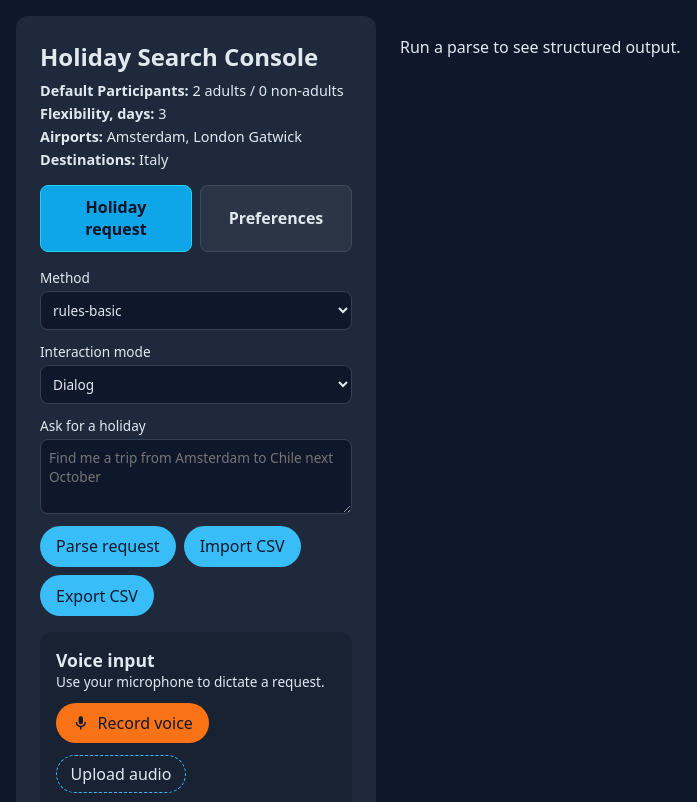
Test: Holiday search console › switches to preferences mode and updates labels
Click the button with test id "mode-toggle-preferences". click: (276, 218)
box: [200,185,352,252]
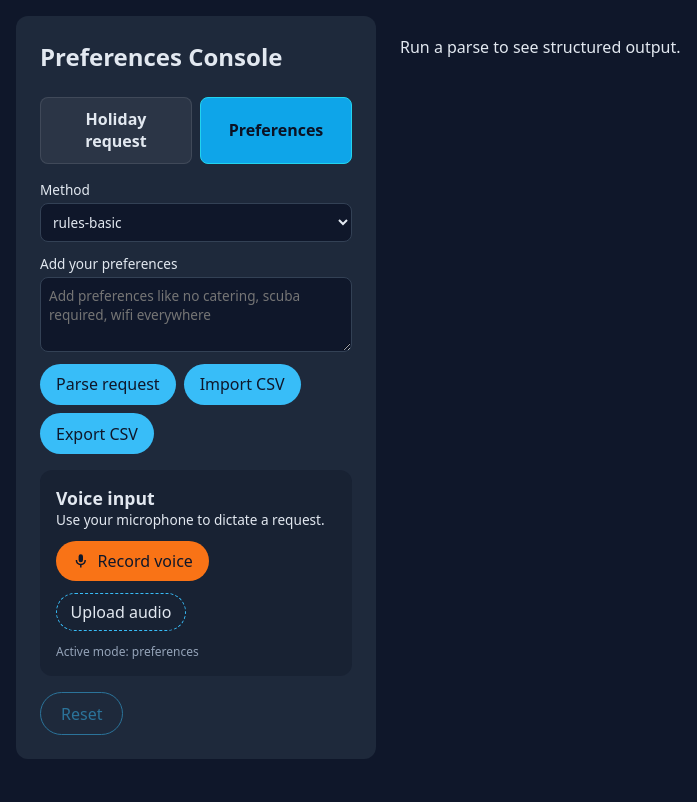
Expected: the heading "Preferences Console" is shown, [40,40,282,73]
Expected: the element with test id "fixtures-loaded" is gone
Expected: the text "Add your preferences" is shown, [40,254,352,352]
